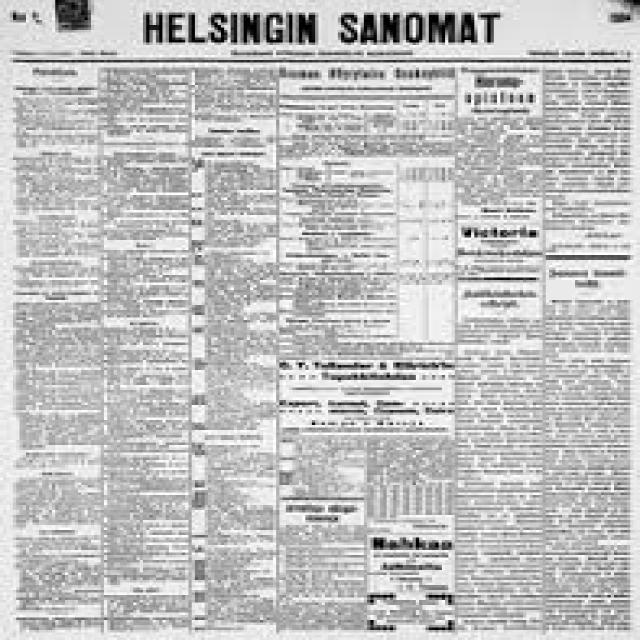paper: (0, 0, 637, 629)
